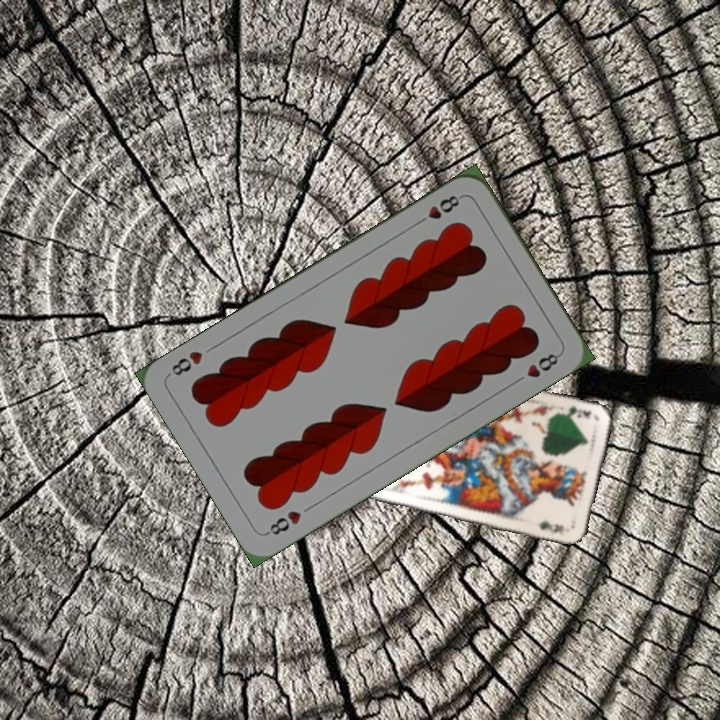GK: (556, 402, 594, 421)
H8: (412, 191, 465, 228), (262, 506, 304, 538)
